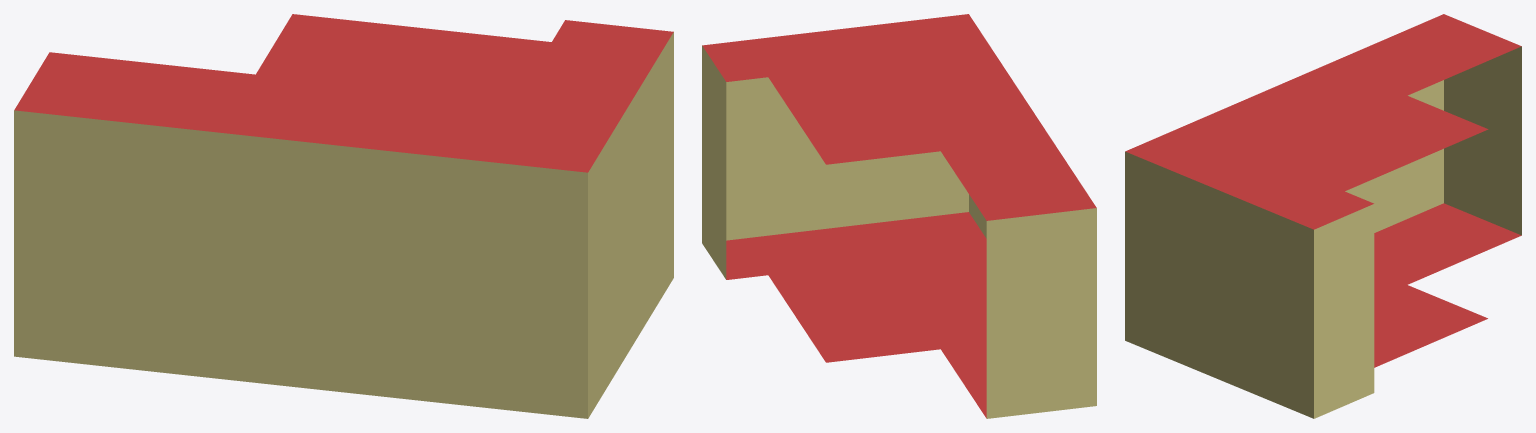
The picture shows the model from 3 angles, left to right: view 1: azimuth 30°, elevation 25°; view 2: azimuth 150°, elevation 25°; view 3: azimuth 270°, elevation 25°; orthographic projection. The views are drawn at different scales.
Bounding box in the file's own units: 13.41 × 10.43 × 5.49.
